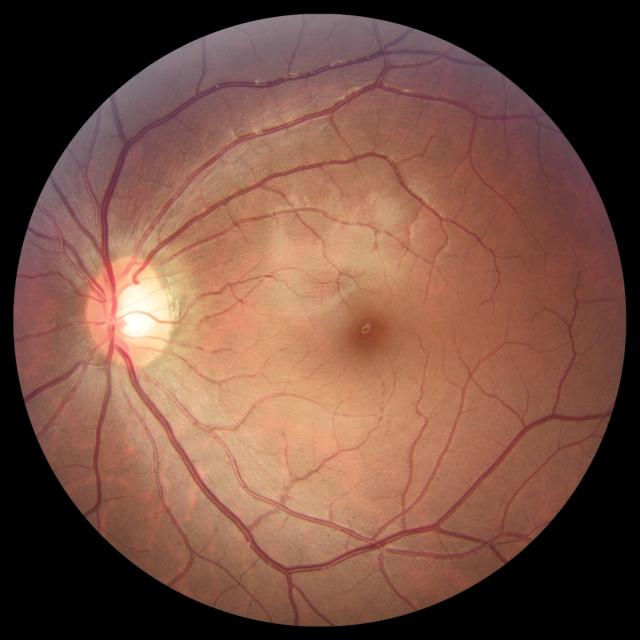OC: (105, 280, 156, 342)
OD: (85, 256, 172, 368)
